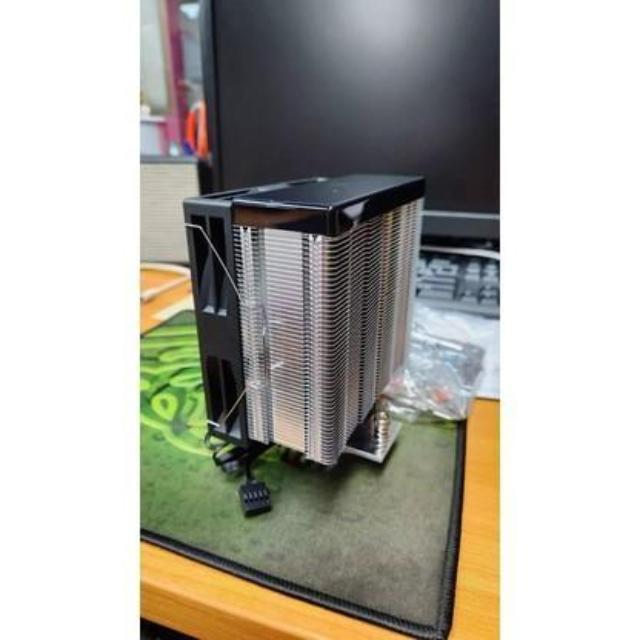CPU_Fan: (182, 172, 424, 480)
